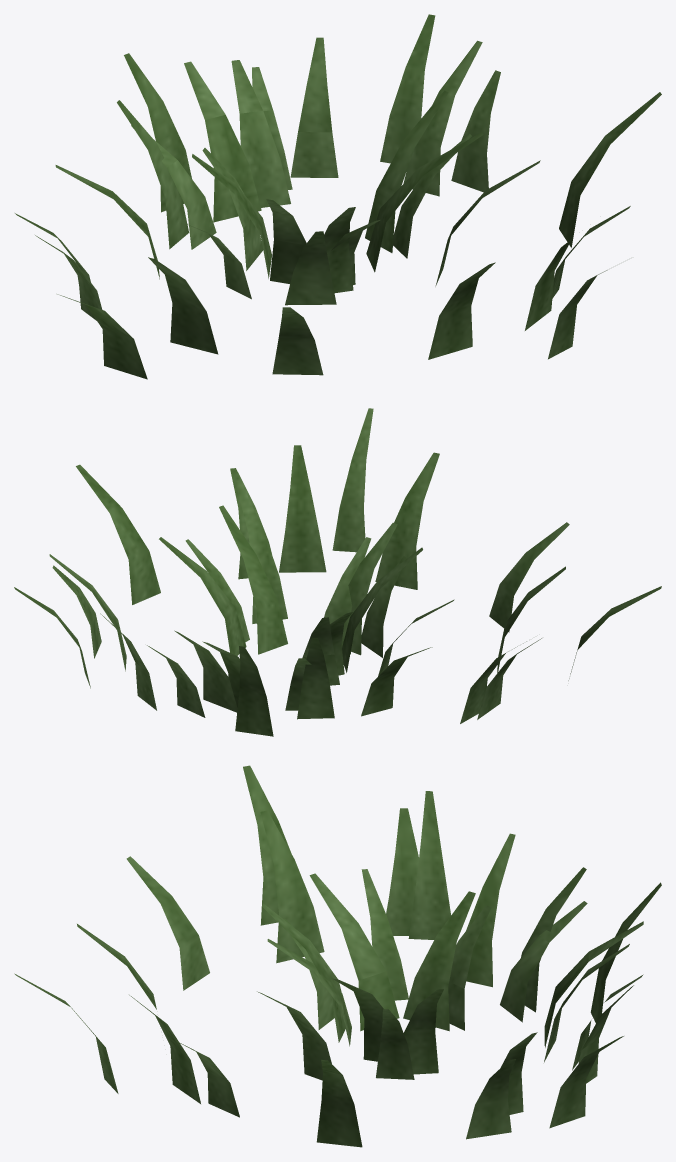
Rendered from grass_tuft_0.glb.
3 renders of one model, top to bottom at view 1: azimuth 30°, elevation 25°; view 2: azimuth 150°, elevation 25°; view 3: azimuth 270°, elevation 25°, orthographic. The views are drawn at different scales.
Visible parts, largest first — view 1: grass_tuft_0; view 2: grass_tuft_0; view 3: grass_tuft_0.
Boxes of the visible parts, x1,y1,x2,y2 form: grass_tuft_0: (15,14,661,379); grass_tuft_0: (14,408,661,736); grass_tuft_0: (14,765,661,1147).
Size of the model in its own units: 1.19 by 0.2318 by 1.05.
Materials: 1 (1 with a texture image).
